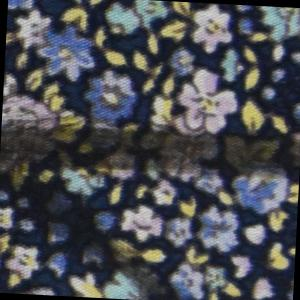Stain: (1, 108, 300, 300)
